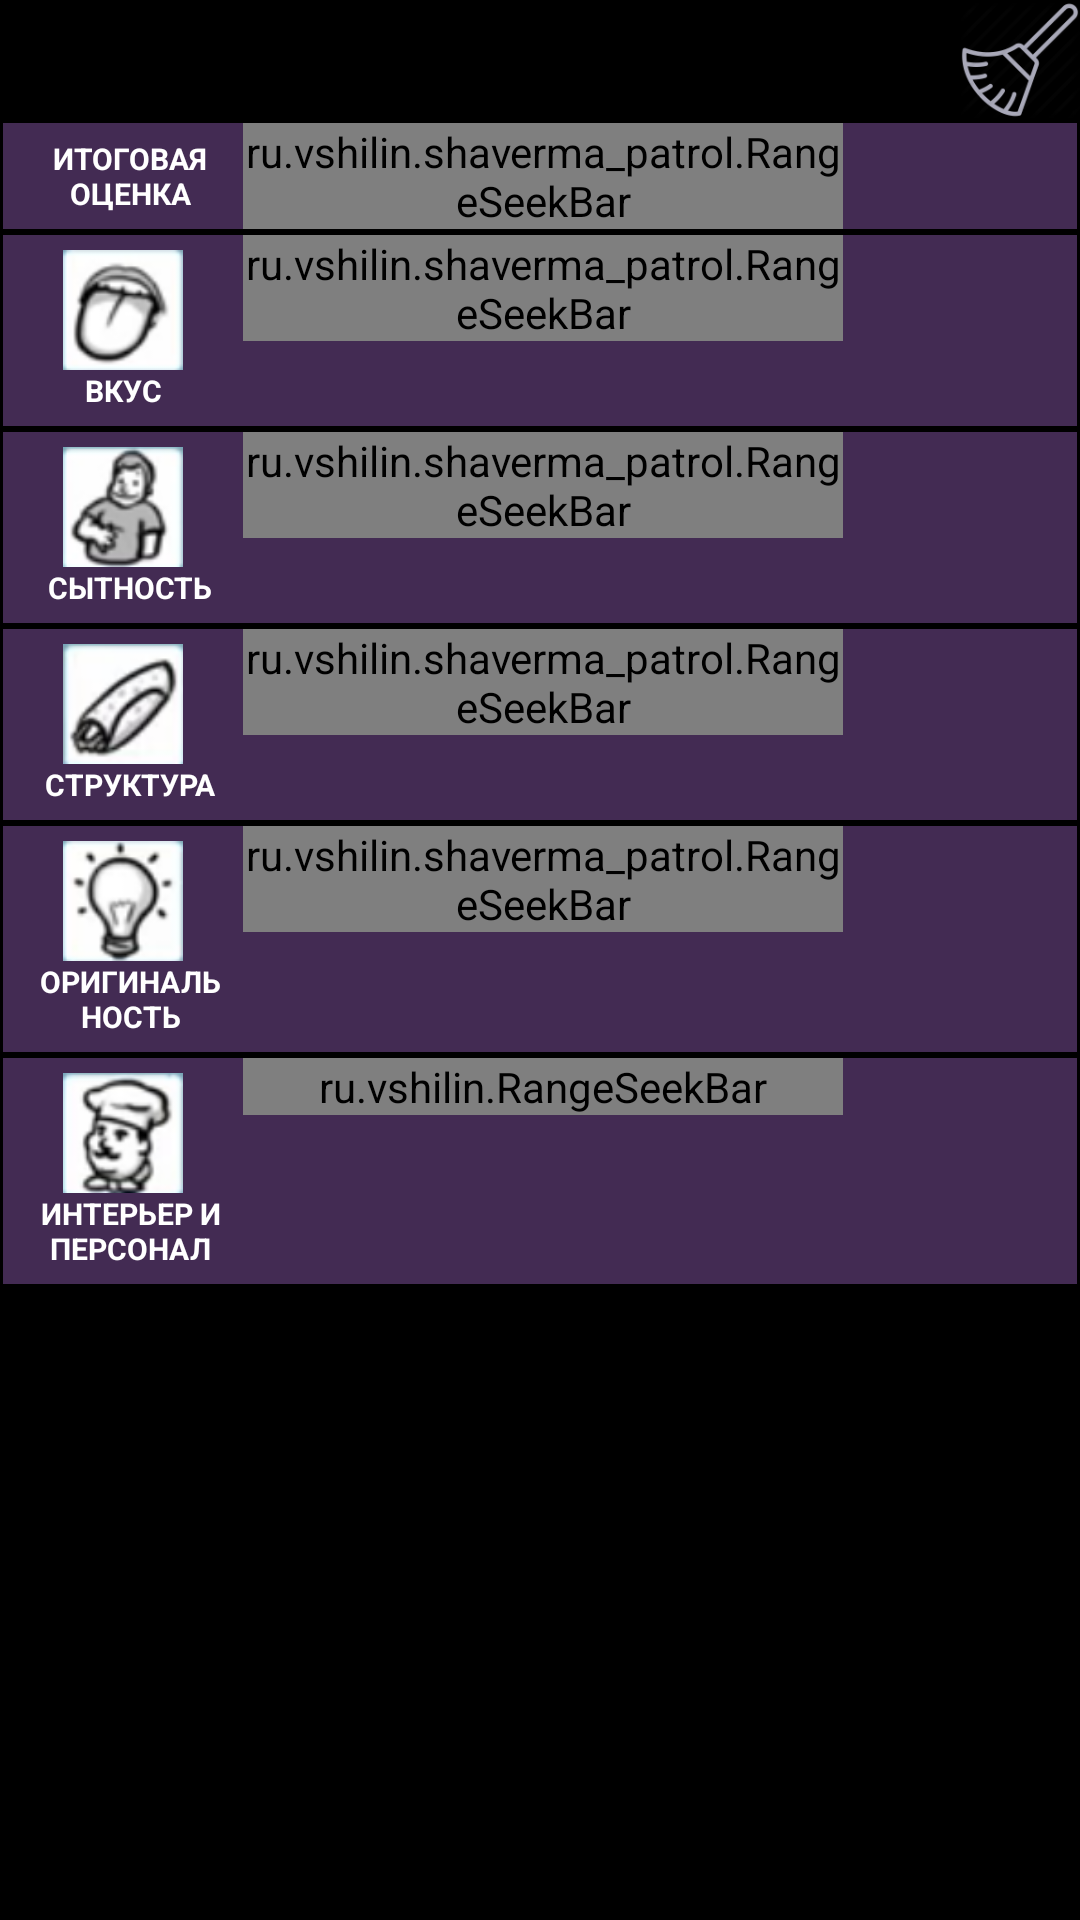

Icons on this 1080px×1920px Android screen, each with its box as [x1=x1, y1=y1, x2=x2, y2=y2]:
clear: [x1=962, y1=3, x2=1078, y2=117]
